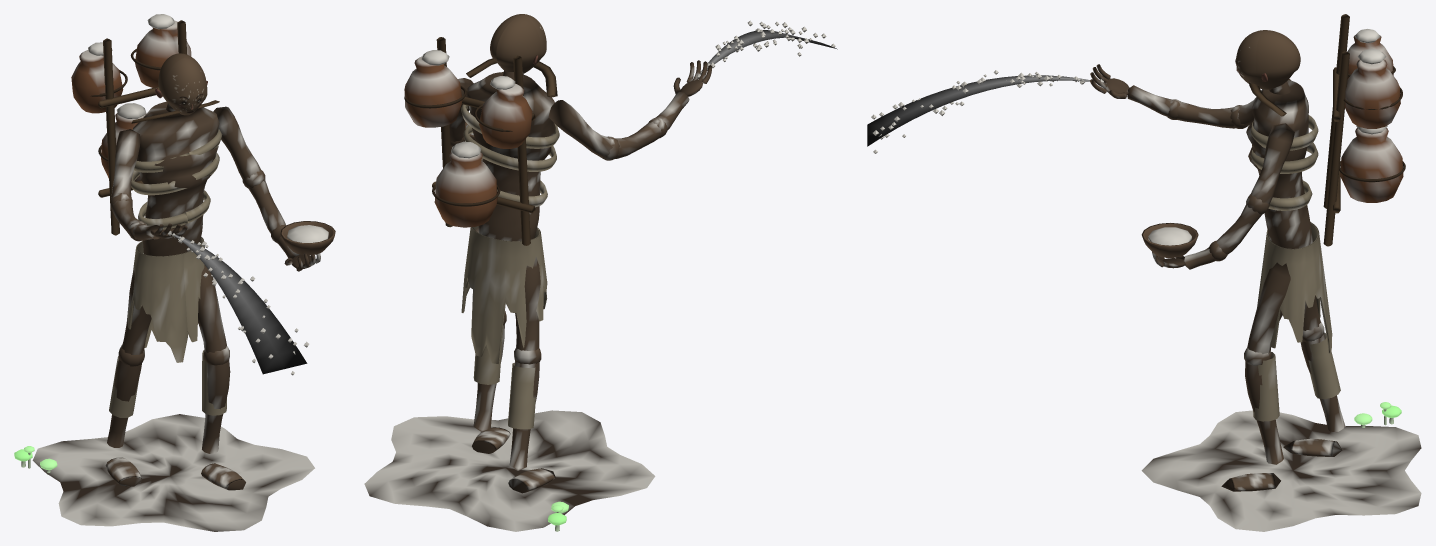
The model's file is saltbearer.glb.
3 renders of one model, left to right at view 1: azimuth 30°, elevation 25°; view 2: azimuth 150°, elevation 25°; view 3: azimuth 270°, elevation 25°, orthographic. The views are drawn at different scales.
Parts seen in each view (by area): view 1: saltbearer-body, saltbearer-fx, saltbearer-face, saltbearer-glow; view 2: saltbearer-body, saltbearer-face, saltbearer-fx; view 3: saltbearer-body, saltbearer-face, saltbearer-fx.
Part boxes in pixels (x1,y1,x2,y2): saltbearer-body: (21, 14, 335, 531); saltbearer-fx: (173, 234, 307, 374); saltbearer-face: (158, 53, 207, 115); saltbearer-glow: (14, 446, 57, 469); saltbearer-body: (364, 20, 835, 531); saltbearer-face: (490, 14, 546, 73); saltbearer-fx: (694, 30, 837, 80); saltbearer-body: (871, 14, 1421, 531); saltbearer-face: (1235, 30, 1300, 89); saltbearer-fx: (867, 75, 1106, 146).
Size of the model in its own units: 0.6619 by 1.11 by 1.26.
4 materials, 1 textured.
